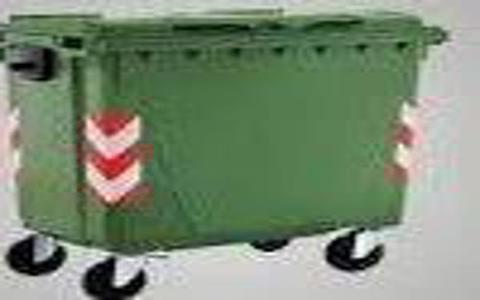Proper garbage: (2, 1, 472, 300)
